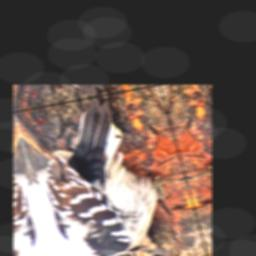Woodpecker: (16, 86, 206, 256)
